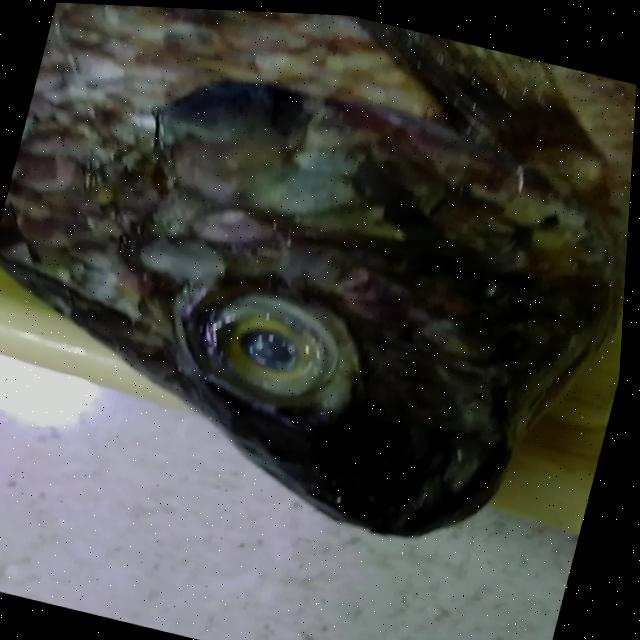Non-Fresh: (166, 260, 387, 430)
